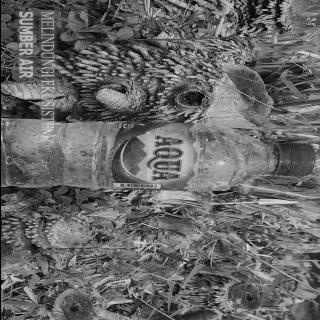plastic_bottles: (0, 118, 316, 194)
